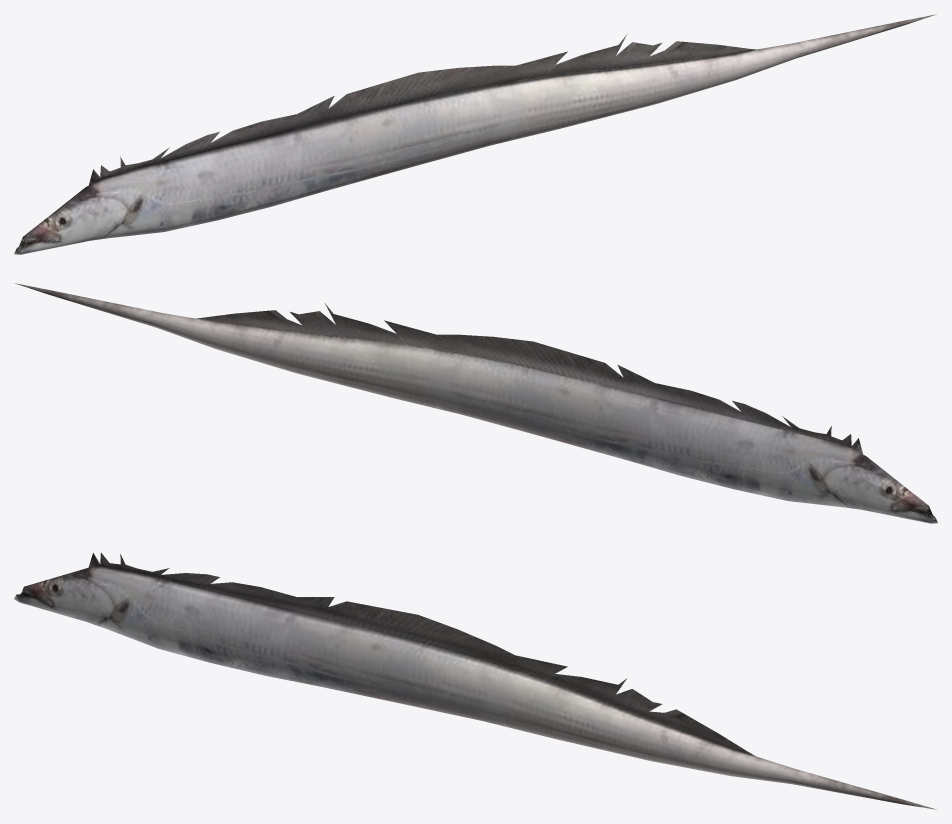
File: tatiuo.dae
The picture shows the model from 3 angles, top to bottom: view 1: azimuth 30°, elevation 25°; view 2: azimuth 150°, elevation 25°; view 3: azimuth 330°, elevation 25°; orthographic projection.
Visible parts, largest first — view 1: Cylinder; view 2: Cylinder; view 3: Cylinder.
Part boxes in pixels (box(x1,y1,x2,y2)): Cylinder: box(14, 14, 936, 254); Cylinder: box(15, 283, 937, 523); Cylinder: box(14, 552, 936, 809).
Size of the model in its own units: 9.76 by 0.9919 by 0.317.
1 material, 1 textured.
